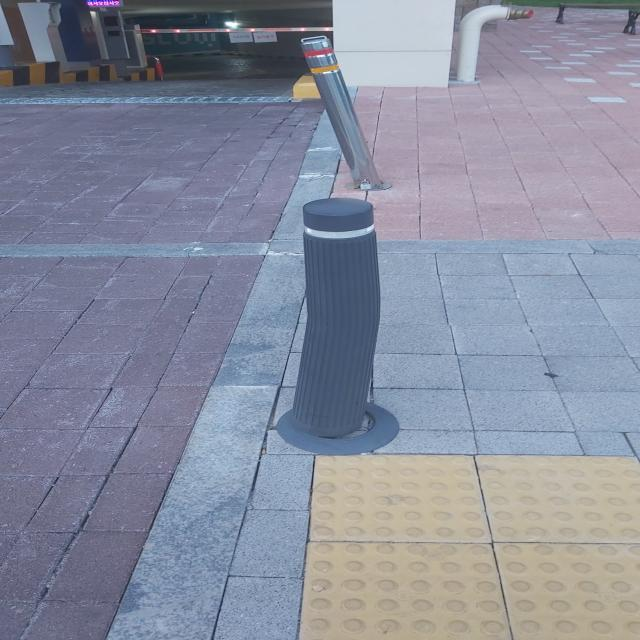pole: (276, 198, 398, 455), (298, 28, 392, 190)
